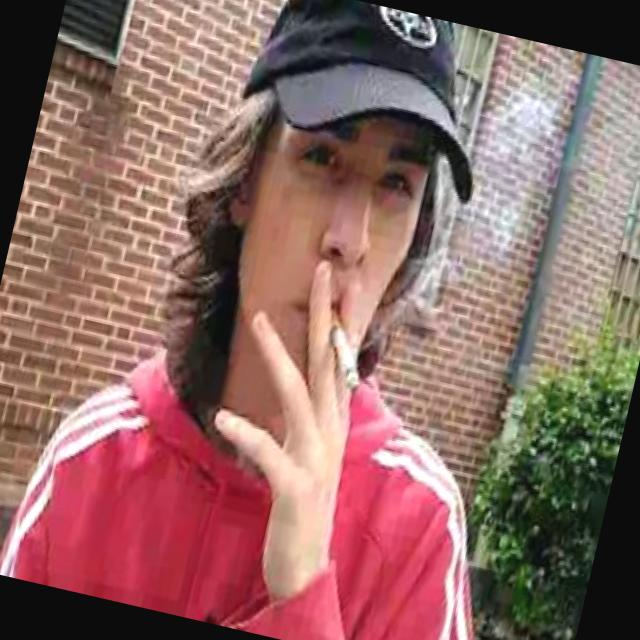smoke: (298, 286, 388, 404)
